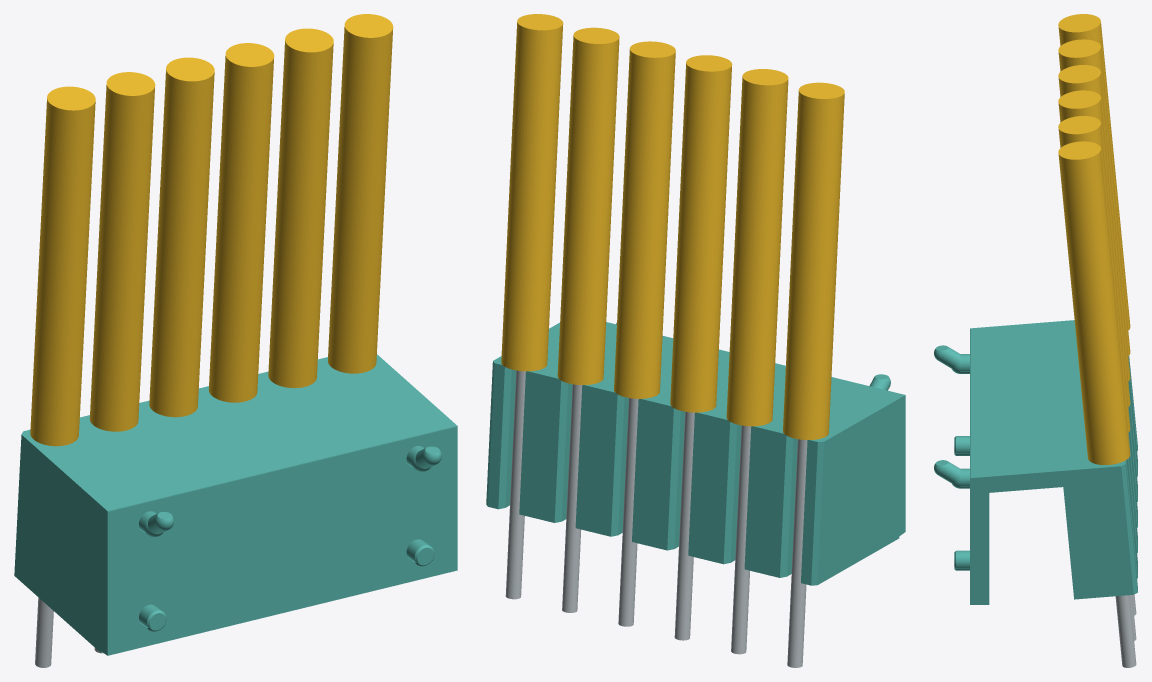
The model's file is part-mh01-magnetic-shaft-holder-jeweler-4mm-round__v1__loaded.glb.
The picture shows the model from 3 angles, left to right: view 1: azimuth 30°, elevation 25°; view 2: azimuth 150°, elevation 25°; view 3: azimuth 270°, elevation 25°; orthographic projection. The views are drawn at different scales.
Parts seen in each view (by area): view 1: handles-reference, Actual holder mesh, shafts-reference; view 2: handles-reference, Actual holder mesh, shafts-reference; view 3: Actual holder mesh, handles-reference, shafts-reference.
Part boxes in pixels (x1,y1,x2,y2): handles-reference: (30, 14, 393, 446); Actual holder mesh: (14, 354, 457, 655); shafts-reference: (35, 597, 103, 667); handles-reference: (501, 14, 844, 439); Actual holder mesh: (486, 322, 905, 585); shafts-reference: (505, 370, 807, 667); Actual holder mesh: (934, 320, 1137, 604); handles-reference: (1058, 14, 1130, 464); shafts-reference: (1115, 594, 1136, 667).
Size of the model in its own units: 0.0996 by 0.1601 by 0.0573.
